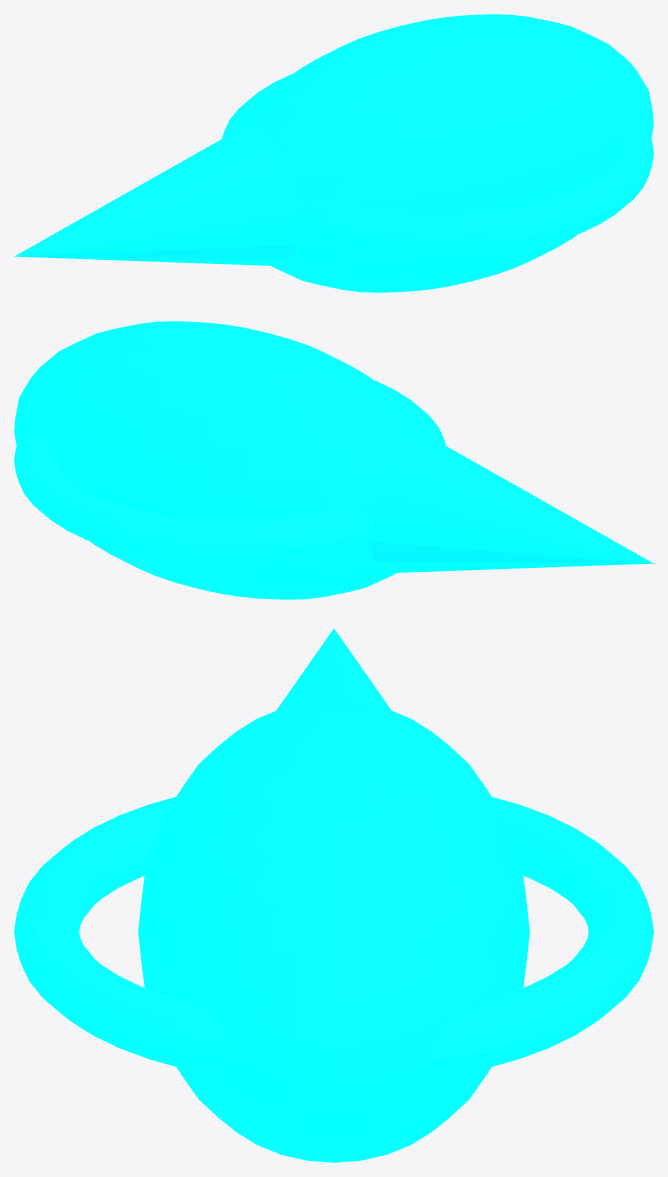
The model's file is shooter.fbx.
The picture shows the model from 3 angles, top to bottom: view 1: azimuth 30°, elevation 25°; view 2: azimuth 150°, elevation 25°; view 3: azimuth 270°, elevation 25°; orthographic projection. The views are drawn at different scales.
Visible parts, largest first — view 1: PlasmaTorpedo; view 2: PlasmaTorpedo; view 3: PlasmaTorpedo.
Boxes of the visible parts, <box> form: PlasmaTorpedo: <box>14,14,653,292</box>; PlasmaTorpedo: <box>14,321,653,599</box>; PlasmaTorpedo: <box>14,628,653,1162</box>.
Size of the model in its own units: 82 by 30 by 49.
